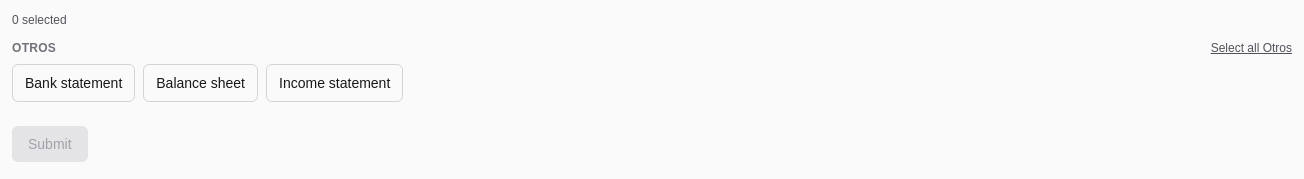
it: choosing from a long catalog › counts what is selected and can clear it
The width and height of the screenshot is (1304, 179).
Expected: the text "0 selected" is shown, left=12, top=12, right=67, bottom=28
Click the button "Bank statement": (74, 83) left=12, top=64, right=135, bottom=102
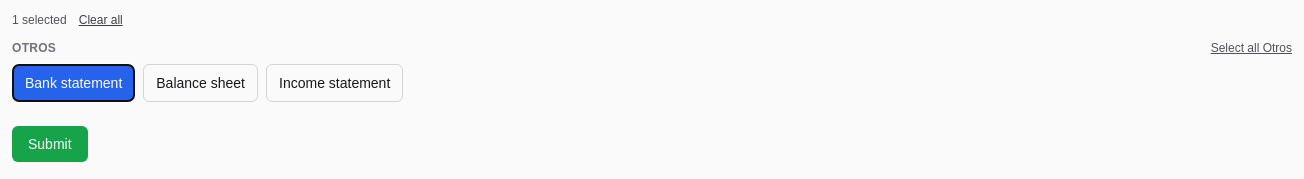
Result: the text "1 selected" is shown at left=12, top=12, right=67, bottom=28
Click the button "Clear all": (101, 20) left=79, top=12, right=123, bottom=28
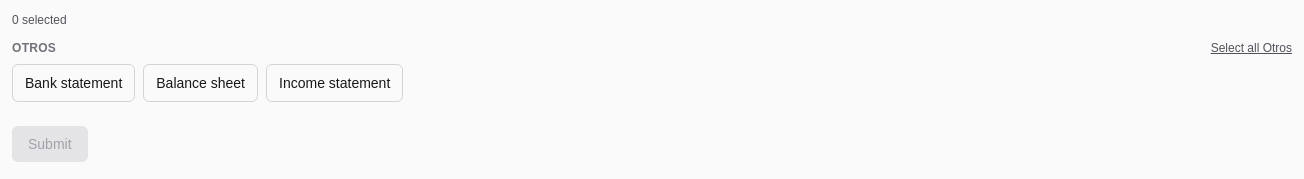
Result: the text "0 selected" is shown at left=12, top=12, right=67, bottom=28
Result: the button "Submit" is disabled at left=12, top=126, right=88, bottom=162
